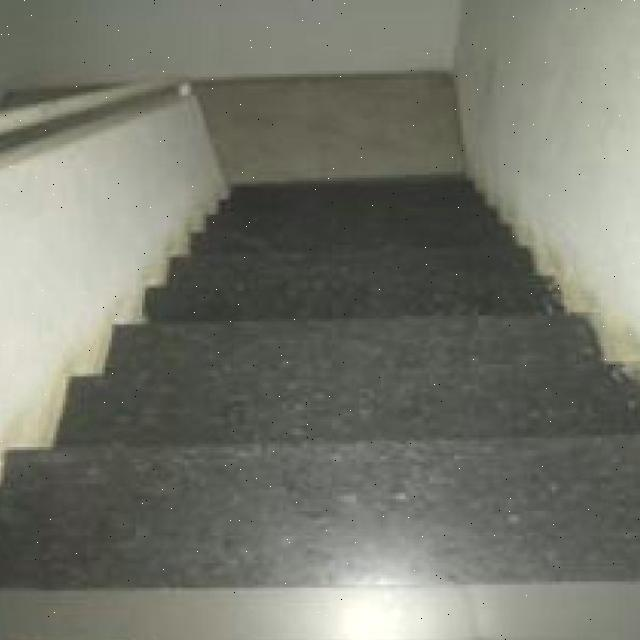stair: (16, 270, 640, 505)
